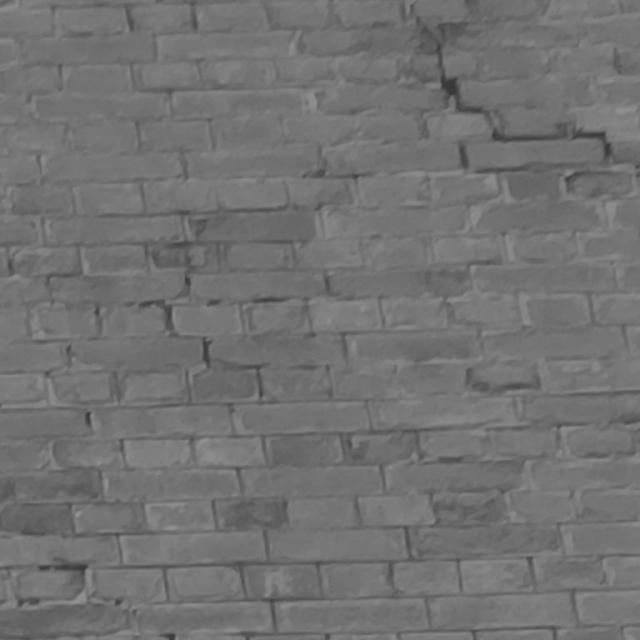crack: (409, 2, 640, 175)
